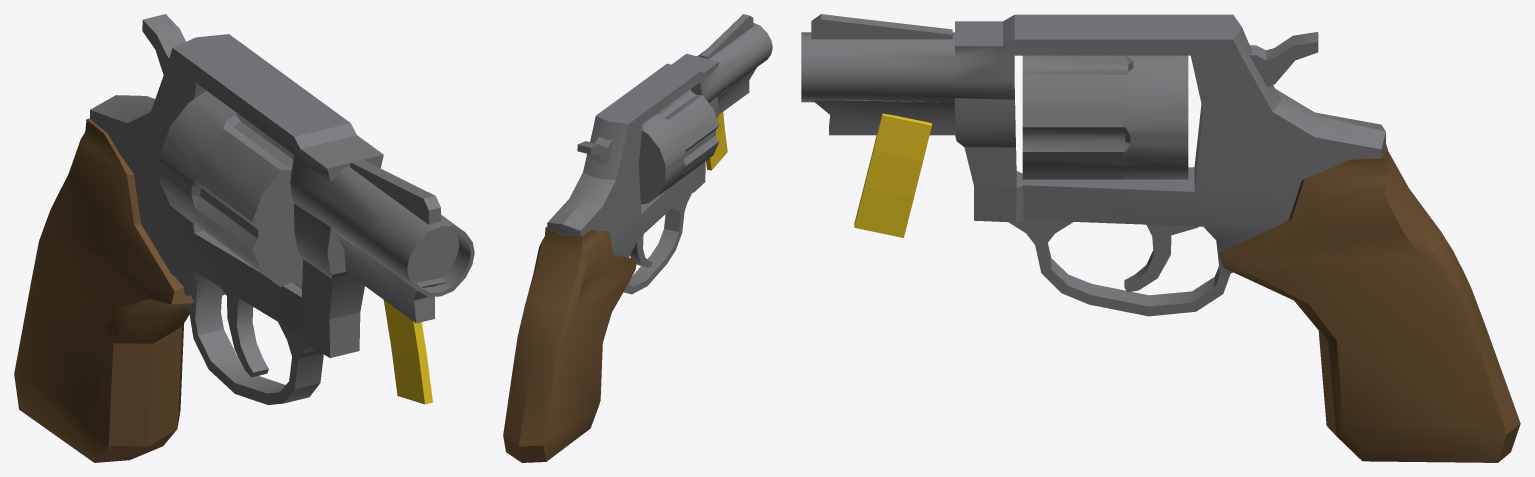
The model's file is revolver.fbx.
The picture shows the model from 3 angles, left to right: view 1: azimuth 30°, elevation 25°; view 2: azimuth 150°, elevation 25°; view 3: azimuth 270°, elevation 25°; orthographic projection. The views are drawn at different scales.
Parts seen in each view (by area): view 1: Cube; view 2: Cube; view 3: Cube.
Boxes of the visible parts, x1,y1,x2,y2 form: Cube: (14, 14, 474, 462); Cube: (503, 14, 772, 462); Cube: (801, 14, 1520, 462).
Bounding box in the file's own units: 42.98 × 151 × 226.
